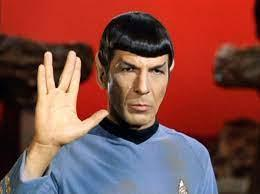Live-Long-Prosper: (33, 48, 112, 151)
